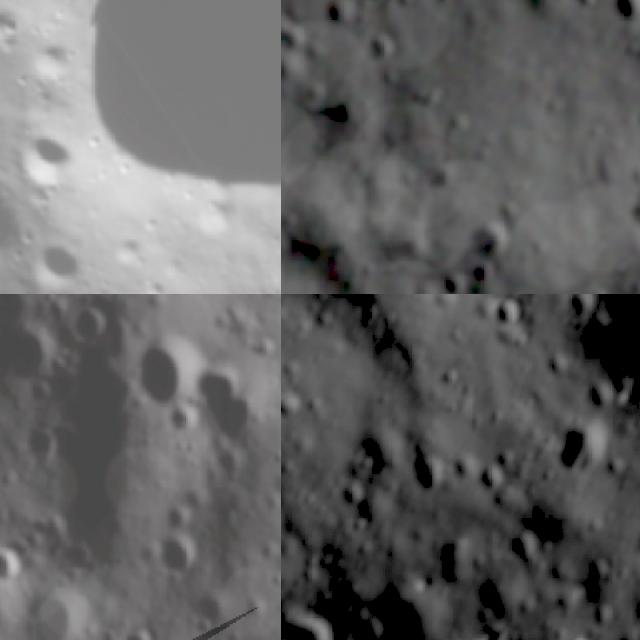crater: (0, 0, 281, 294), (8, 118, 88, 198), (130, 328, 210, 408), (197, 353, 261, 451), (19, 225, 91, 294), (0, 296, 54, 382), (0, 170, 39, 268), (19, 584, 84, 640), (556, 420, 608, 479), (27, 26, 81, 82), (150, 530, 197, 582), (410, 449, 452, 502), (0, 0, 40, 53), (466, 227, 512, 270), (68, 304, 110, 351), (281, 607, 335, 640), (576, 377, 616, 417), (336, 472, 370, 518), (504, 528, 540, 566), (166, 403, 200, 443), (426, 163, 463, 198), (490, 294, 521, 332), (558, 294, 595, 320), (162, 503, 193, 534), (360, 35, 398, 60), (0, 542, 22, 579), (495, 199, 522, 228), (438, 271, 470, 294), (613, 0, 640, 27), (120, 624, 161, 640), (48, 287, 137, 294), (471, 262, 493, 290), (281, 29, 303, 54), (531, 238, 552, 263), (626, 198, 640, 234), (340, 190, 361, 214), (394, 0, 419, 15), (281, 212, 296, 234), (429, 0, 450, 12), (582, 285, 609, 294), (362, 0, 388, 9)
